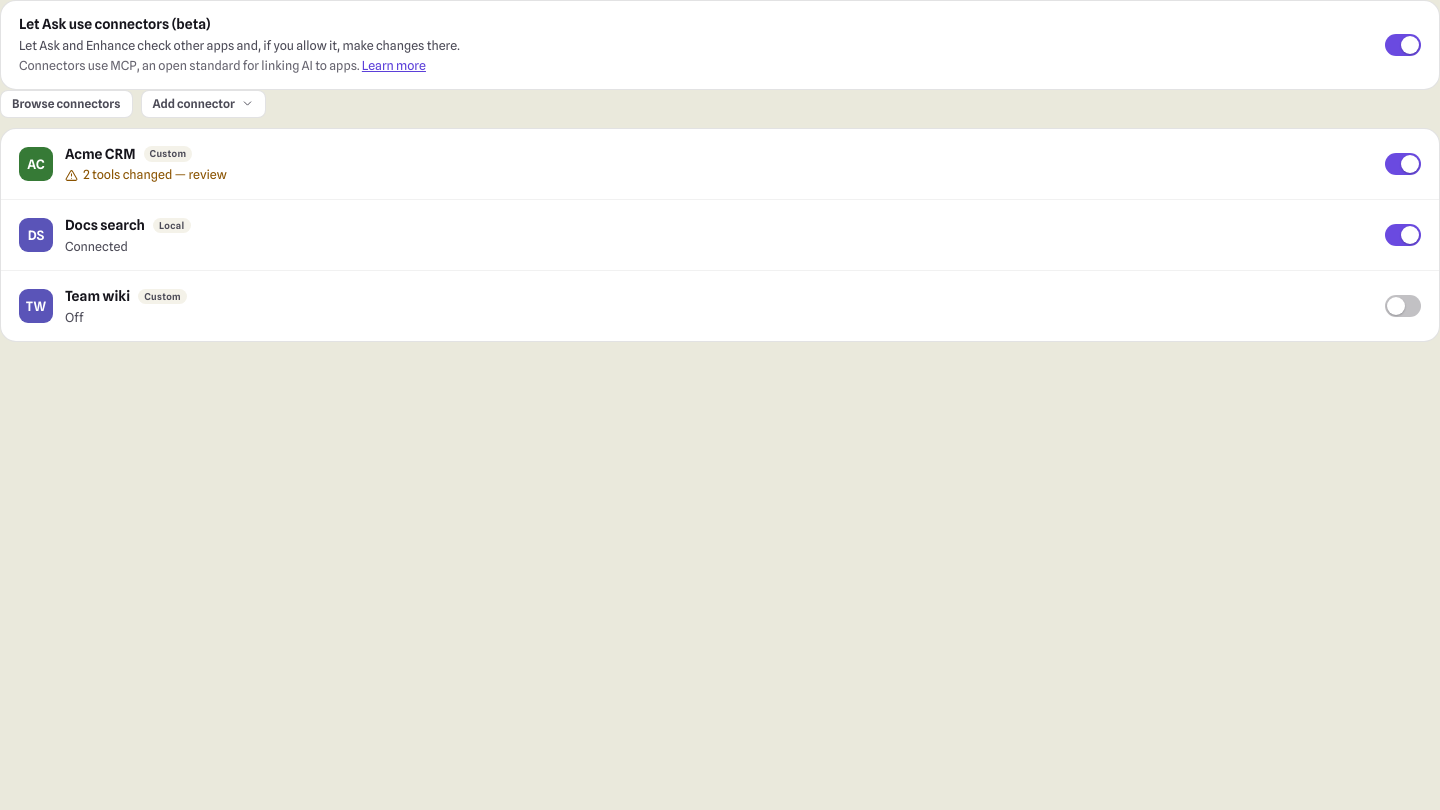
Test case: Add custom connector › says on the detail page when an address isn't a connector
Click the button "Add connector" at (203, 104), box [140, 90, 266, 118]
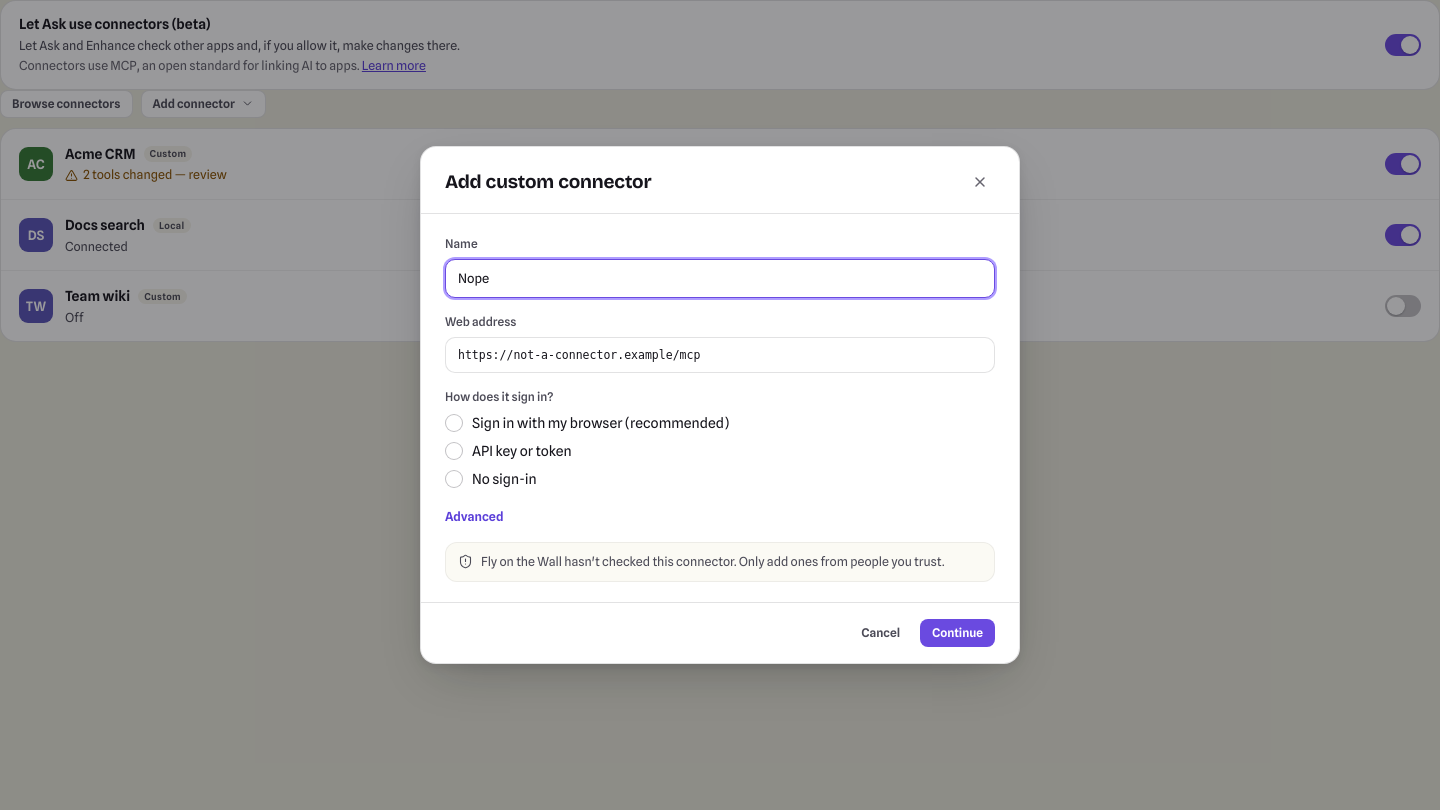
Click the radio button labelled "No sign-in" at (491, 479), box [445, 470, 537, 488]
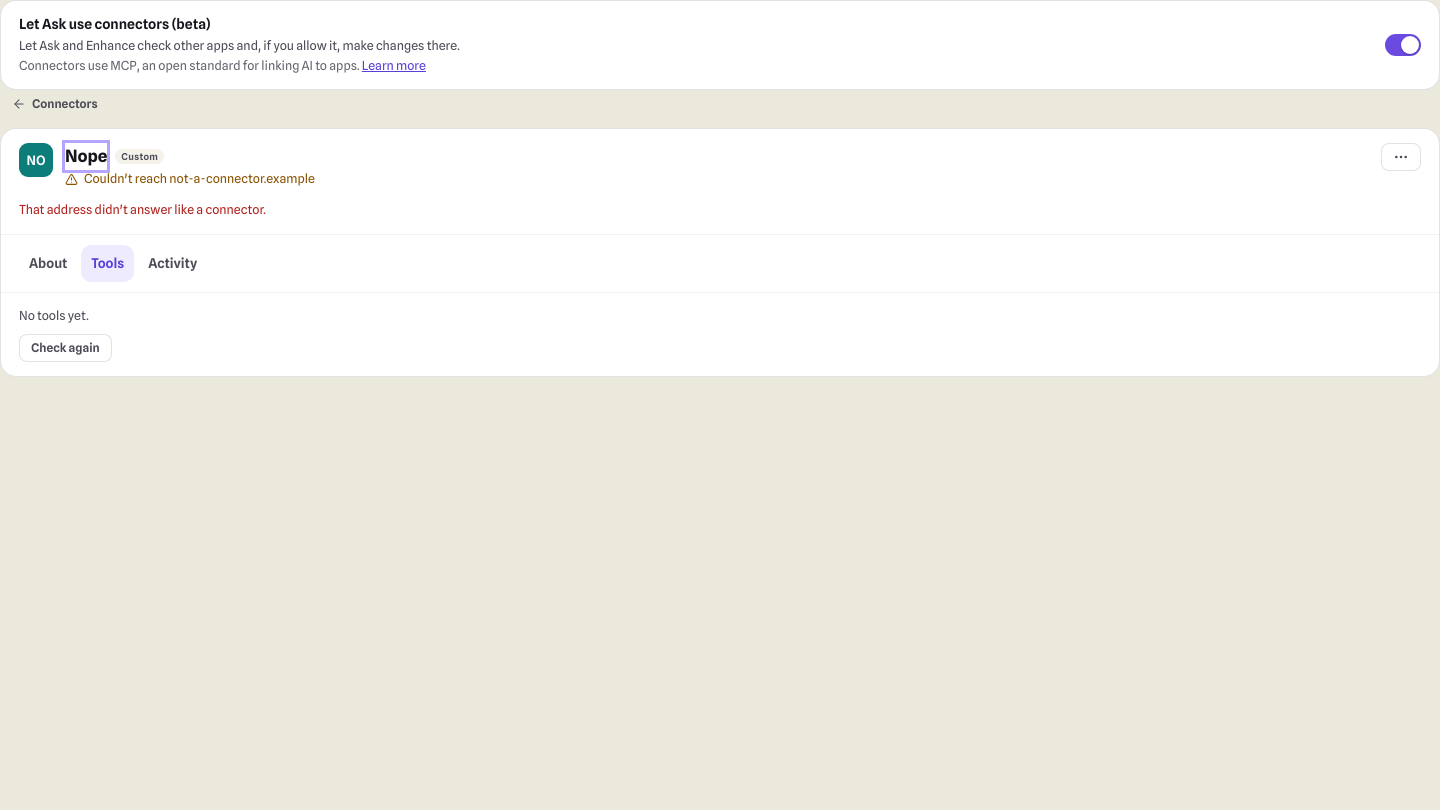
Expected: the heading "Nope" is shown, [65, 143, 107, 170]
Expected: the message "That address didn't answer like a connector." is shown, [19, 202, 266, 217]
